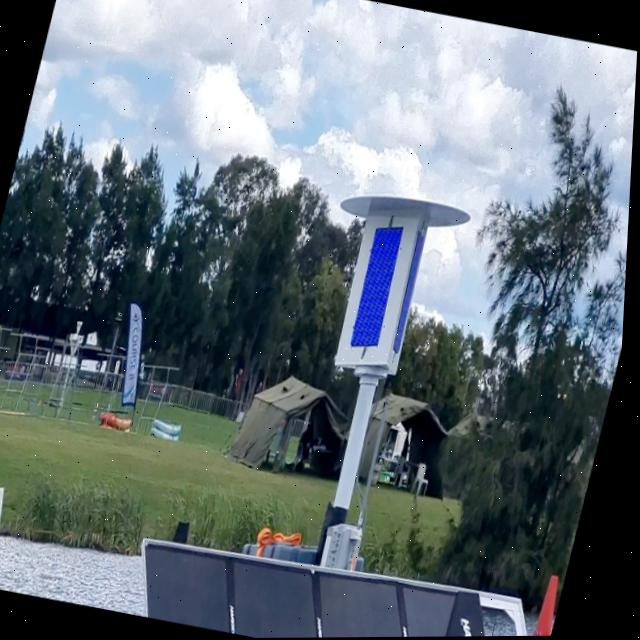led: (342, 215, 422, 364)
